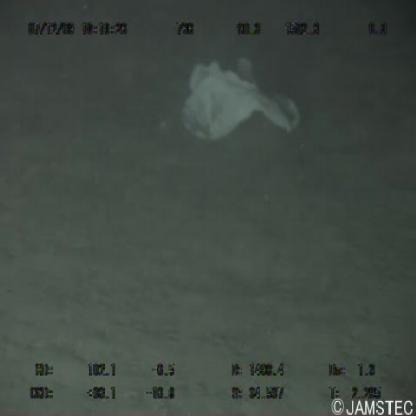Rác: (174, 50, 305, 155)
